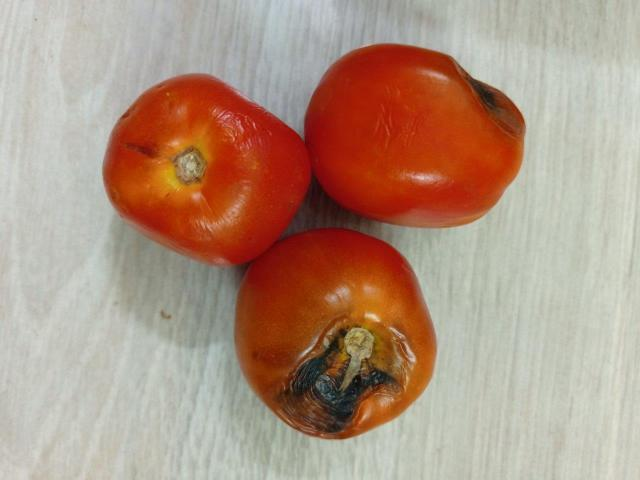defect: (230, 224, 443, 442)
